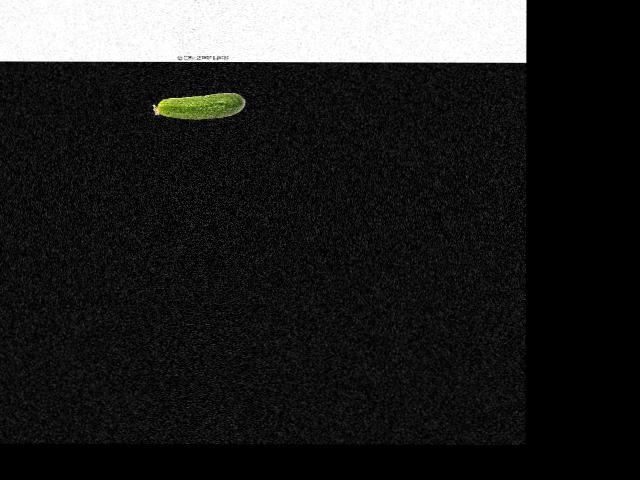cucumber: (153, 92, 245, 119)
